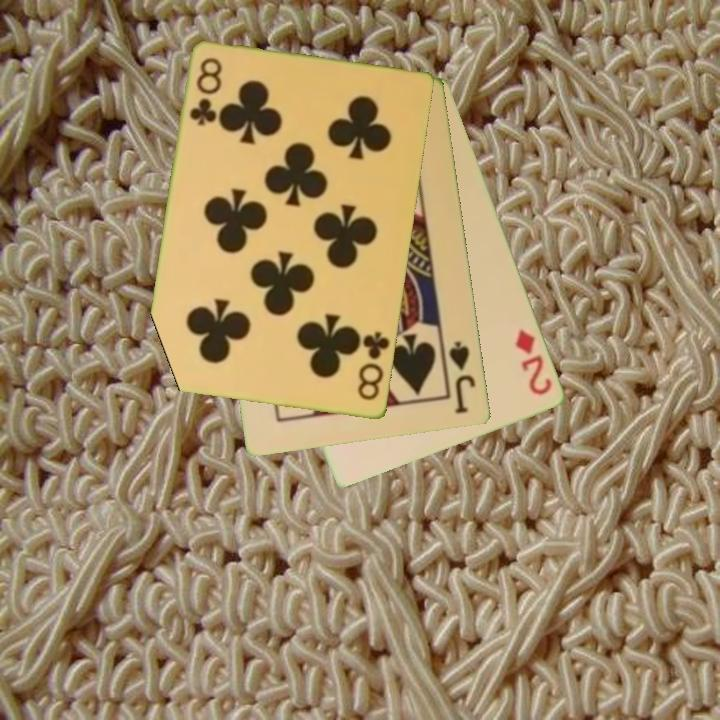2d: (512, 326, 556, 399)
8c: (354, 328, 393, 404), (186, 54, 225, 129)
Js: (446, 338, 479, 417)
